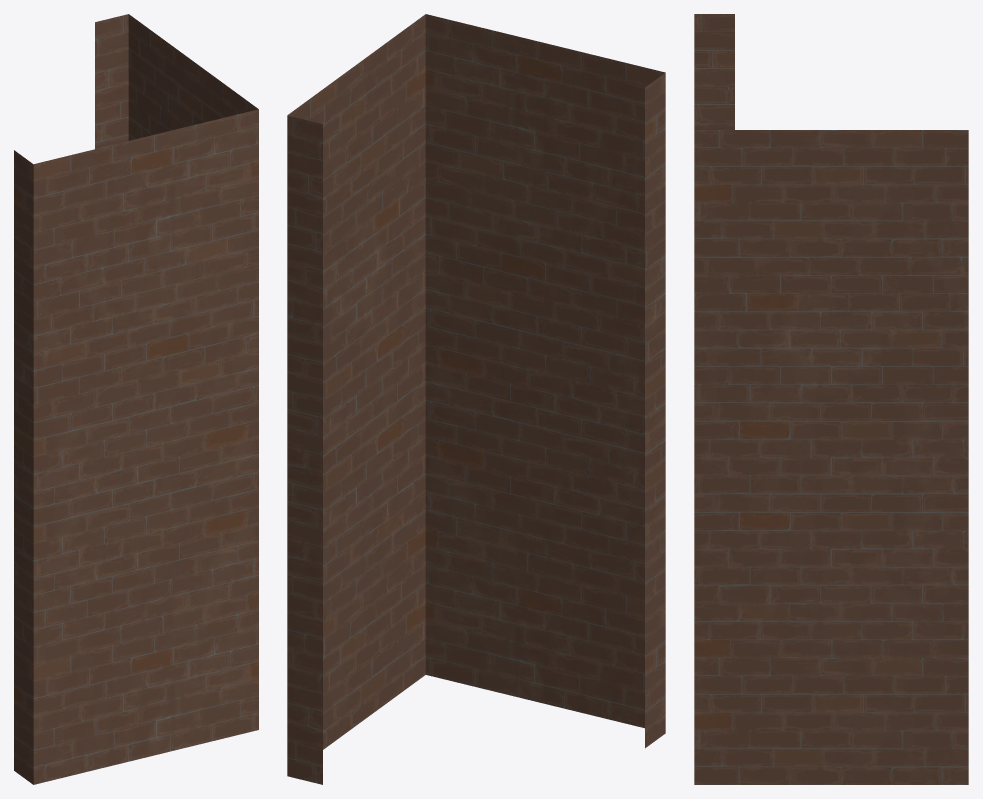
File: Brick_CornerColumn_Center.gltf
3 views of the same model, side by side, from view 1: azimuth 30°, elevation 25°; view 2: azimuth 150°, elevation 25°; view 3: azimuth 270°, elevation 25° (orthographic). The views are drawn at different scales.
Parts seen in each view (by area): view 1: Brick_CornerColumn_Center; view 2: Brick_CornerColumn_Center; view 3: Brick_CornerColumn_Center.
Boxes of the visible parts, x1=… form: Brick_CornerColumn_Center: x1=14, y1=14, x2=258, y2=784; Brick_CornerColumn_Center: x1=287, y1=14, x2=665, y2=784; Brick_CornerColumn_Center: x1=694, y1=14, x2=968, y2=784.
Size of the model in its own units: 1.14 by 3 by 1.14.
Materials: 1 (1 with a texture image).
